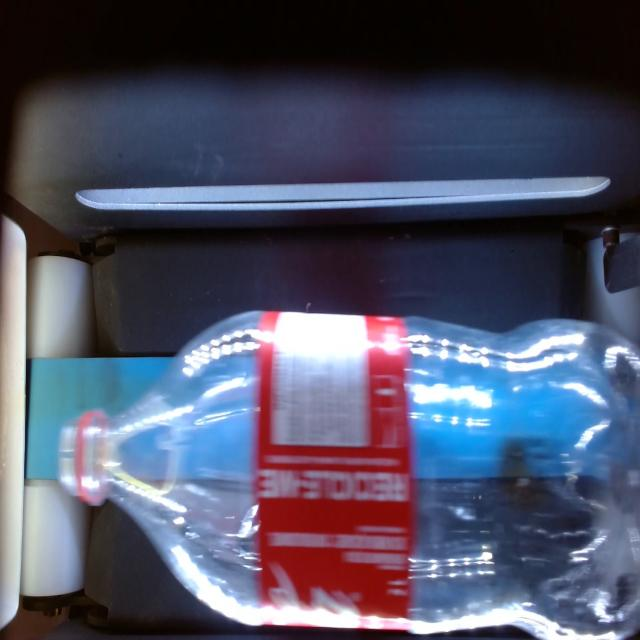bottle: (60, 313, 640, 636)
